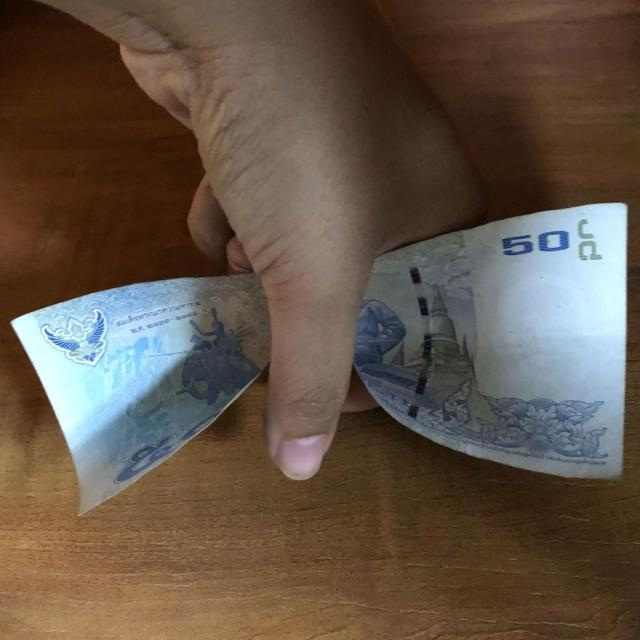THAI50: (352, 204, 629, 482), (9, 273, 272, 519)
